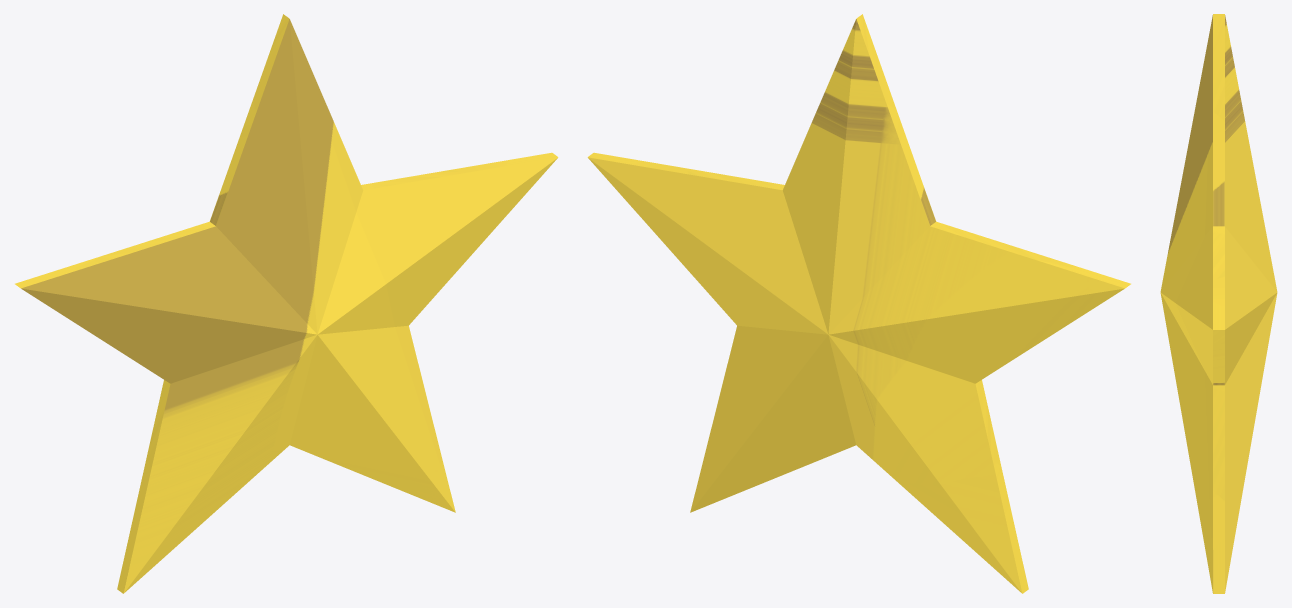
3 views of the same model, side by side, from view 1: azimuth 30°, elevation 25°; view 2: azimuth 150°, elevation 25°; view 3: azimuth 270°, elevation 25° (orthographic). The views are drawn at different scales.
Visible parts, largest first — view 1: Star; view 2: Star; view 3: Star.
Part boxes in pixels (<box>): Star: <box>15,14,558,593</box>; Star: <box>587,14,1130,593</box>; Star: <box>1160,14,1277,593</box>.
Size of the model in its own units: 24.46 by 23.24 by 4.89.
Materials: 1 (1 with a texture image).
